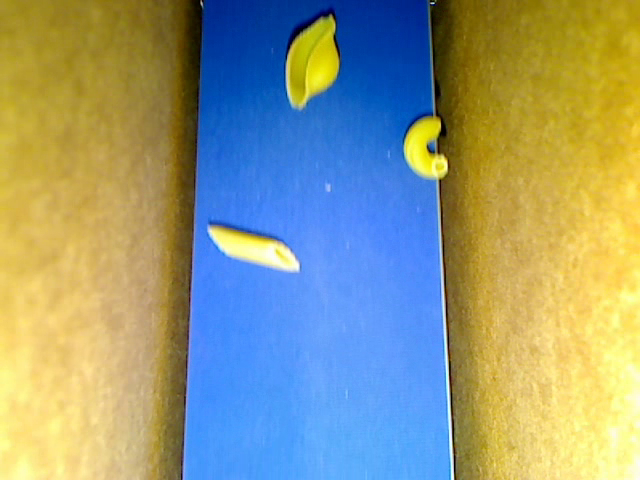elbow: (403, 116, 448, 179)
penne: (205, 224, 300, 272)
shell: (285, 15, 340, 111)
